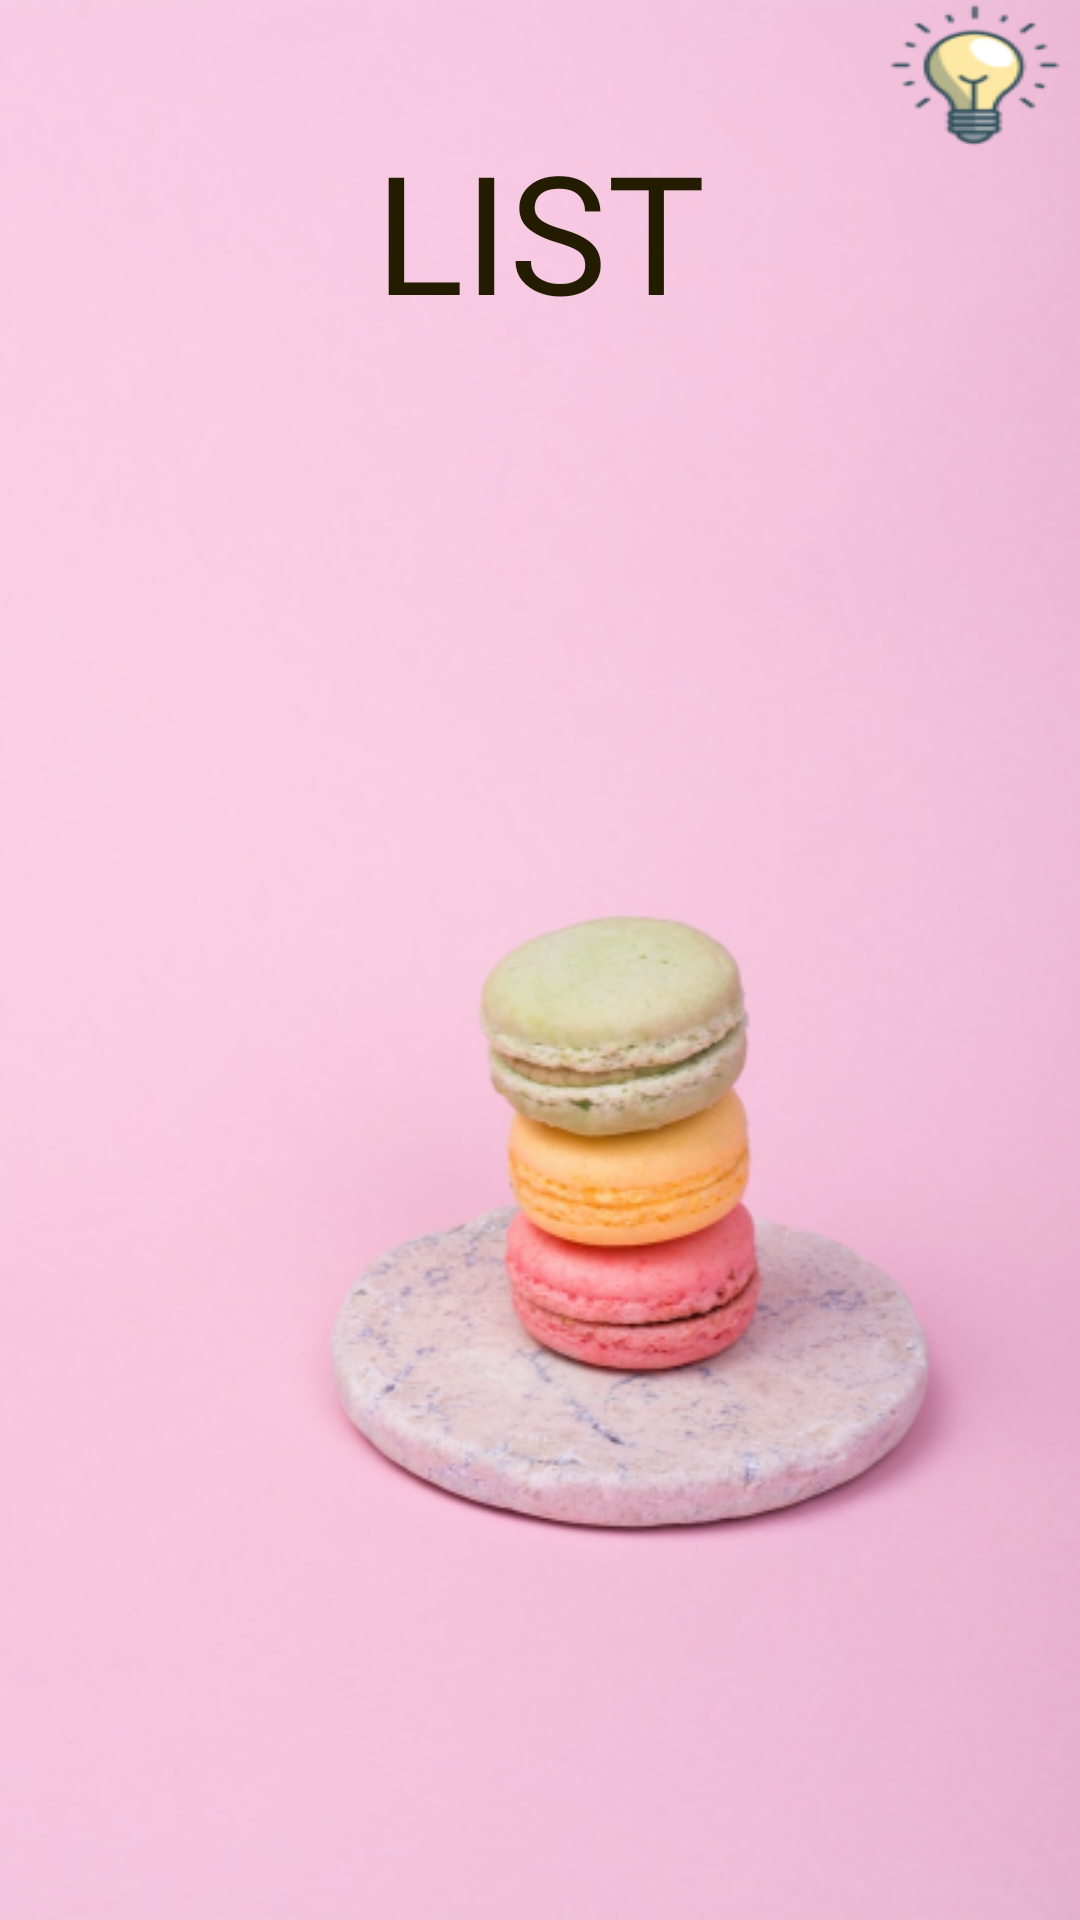

Icon click points for this 1080*1920 phone screenshot, format point (x, y):
idea: point (975, 75)
